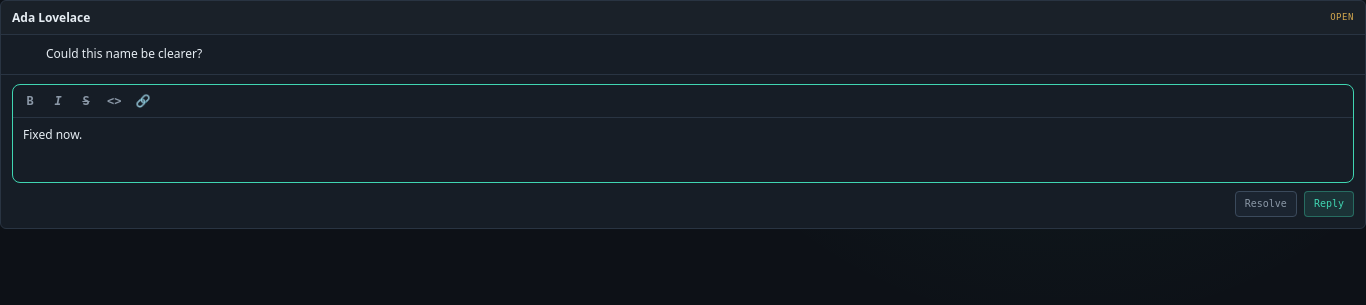
replies and resolves a discussion
Click the button "Reply". click: coordinates (1329, 204)
box: [1304,191,1354,217]
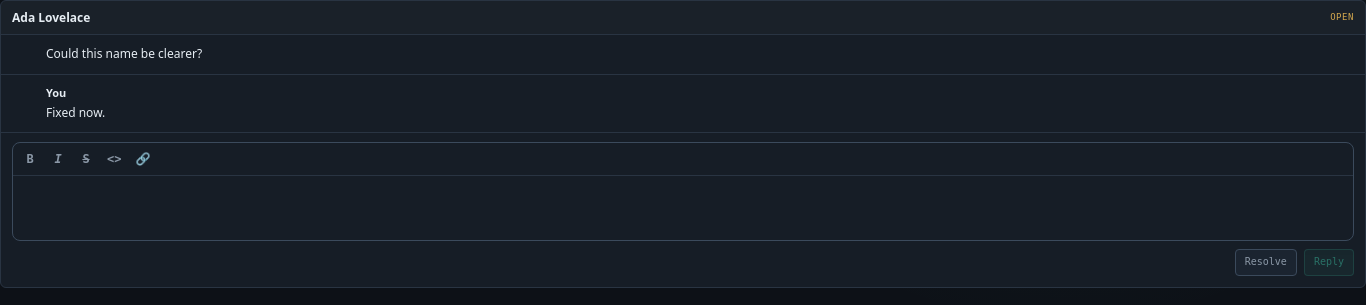
Expected: the text "Fixed now." is shown, [46,104,105,120]
Click the button "Resolve". click: coordinates (1266, 262)
box: [1235,249,1297,276]
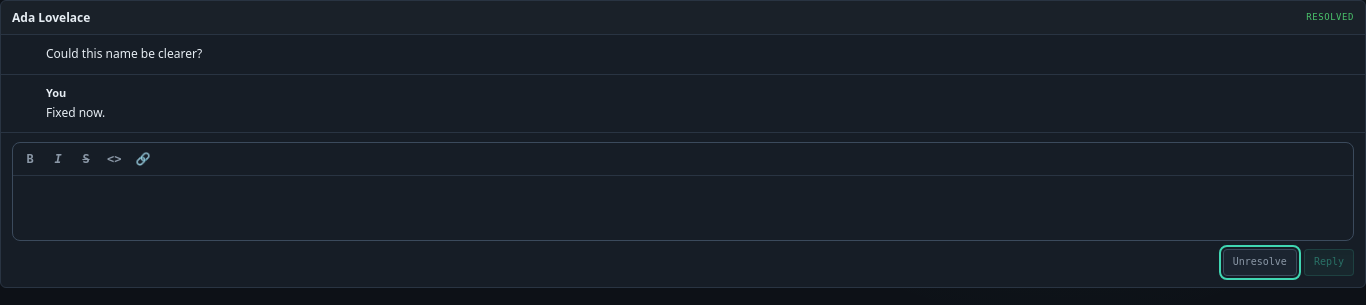
Result: the text "Resolved" is shown at [1306,12,1354,22]
